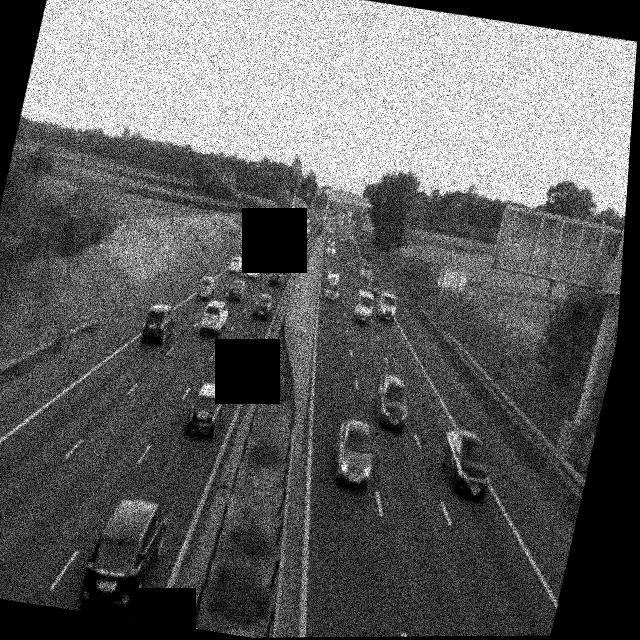car: (76, 494, 171, 622), (432, 427, 500, 500), (326, 416, 382, 490), (368, 373, 416, 432), (184, 381, 229, 439), (138, 301, 181, 349), (196, 299, 232, 338), (351, 290, 377, 324), (374, 289, 400, 322), (251, 290, 275, 318), (323, 275, 343, 302), (225, 278, 246, 302), (195, 276, 215, 301), (267, 265, 285, 288), (245, 261, 263, 281), (357, 264, 374, 284), (229, 256, 245, 274), (263, 246, 276, 263), (248, 241, 261, 256), (283, 250, 296, 264), (336, 249, 347, 263), (325, 243, 336, 256)
truck: (265, 209, 286, 243)
